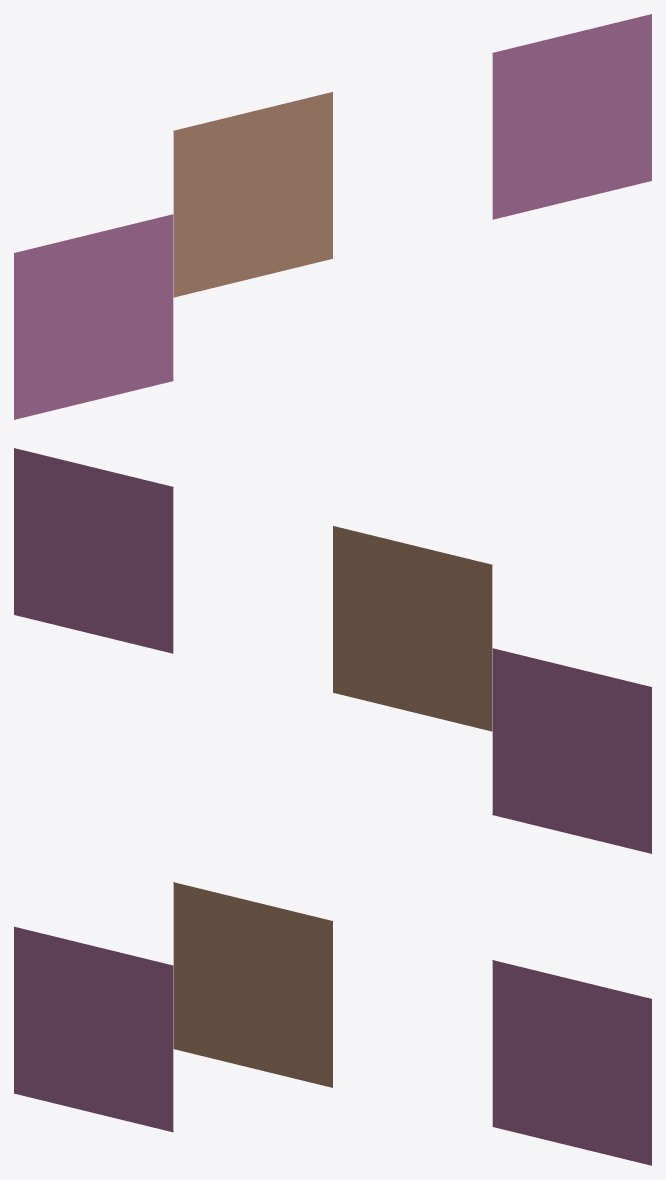
The model's file is file_digged_tilted_wide_row.fbx.
The picture shows the model from 3 angles, top to bottom: view 1: azimuth 30°, elevation 25°; view 2: azimuth 150°, elevation 25°; view 3: azimuth 330°, elevation 25°; orthographic projection.
Visible parts, largest first — view 1: file_digged_tilted_wide_row1; view 2: file_digged_tilted_wide_row1; view 3: file_digged_tilted_wide_row1.
Part boxes in pixels (x1,y1,x2,y2): file_digged_tilted_wide_row1: (14,14,651,419); file_digged_tilted_wide_row1: (14,448,651,853); file_digged_tilted_wide_row1: (14,882,651,1165).
Size of the model in its own units: 48 by 18 by 0.
